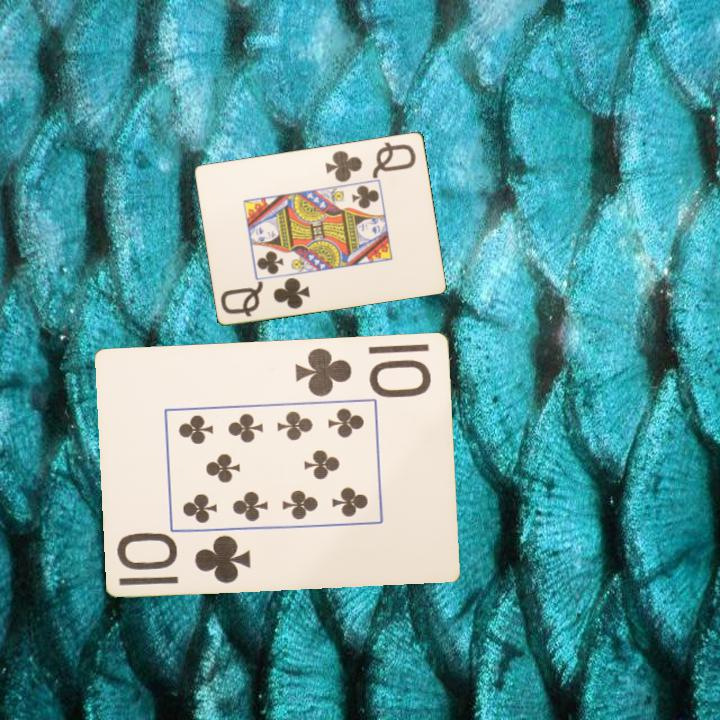10c: (292, 344, 434, 399), (113, 531, 254, 586)
Qc: (322, 138, 419, 185), (217, 273, 313, 319)
